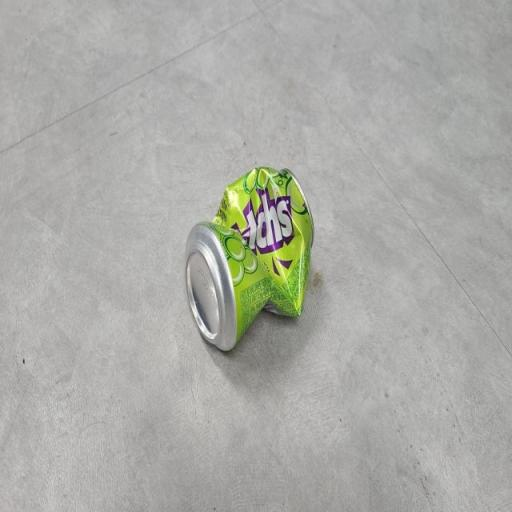metal: (175, 147, 323, 370)
